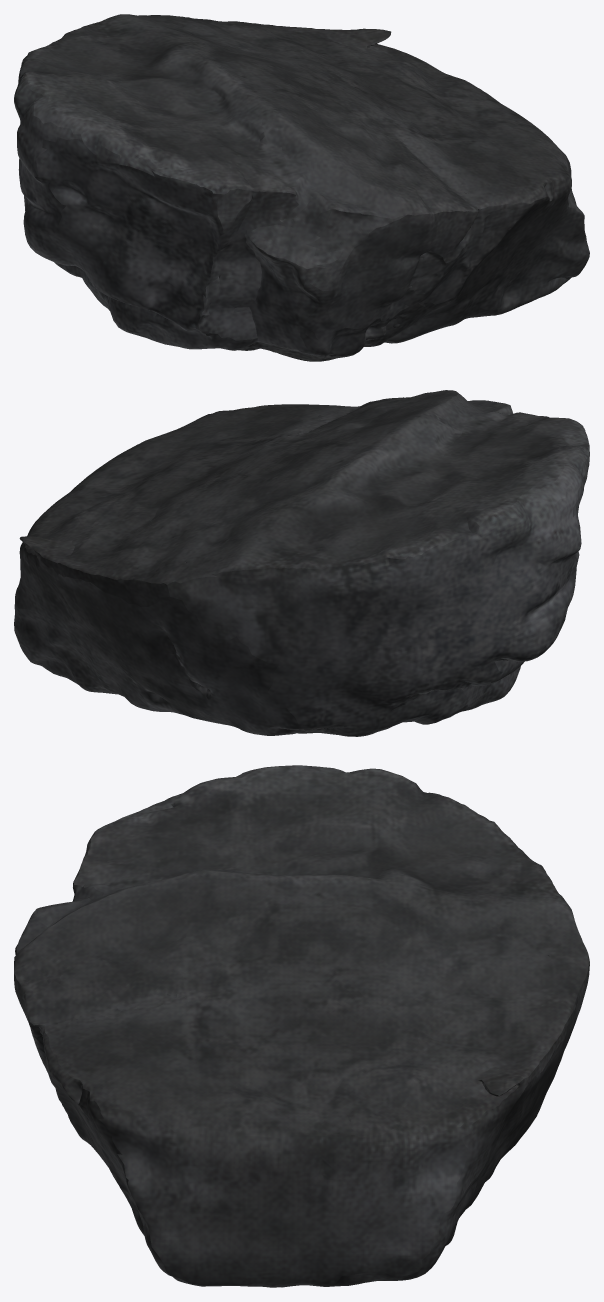
3 views of the same model, one above another, from view 1: azimuth 30°, elevation 25°; view 2: azimuth 150°, elevation 25°; view 3: azimuth 270°, elevation 25° (orthographic). The views are drawn at different scales.
Visible parts, largest first — view 1: world; view 2: world; view 3: world.
Part boxes in pixels (left/top/right/bottom): world: left=14, top=14, right=589, bottom=361; world: left=14, top=390, right=589, bottom=736; world: left=14, top=765, right=589, bottom=1287.
Bounding box in the file's own units: 1.2 × 0.5974 × 1.1.
Materials: 1 (1 with a texture image).
